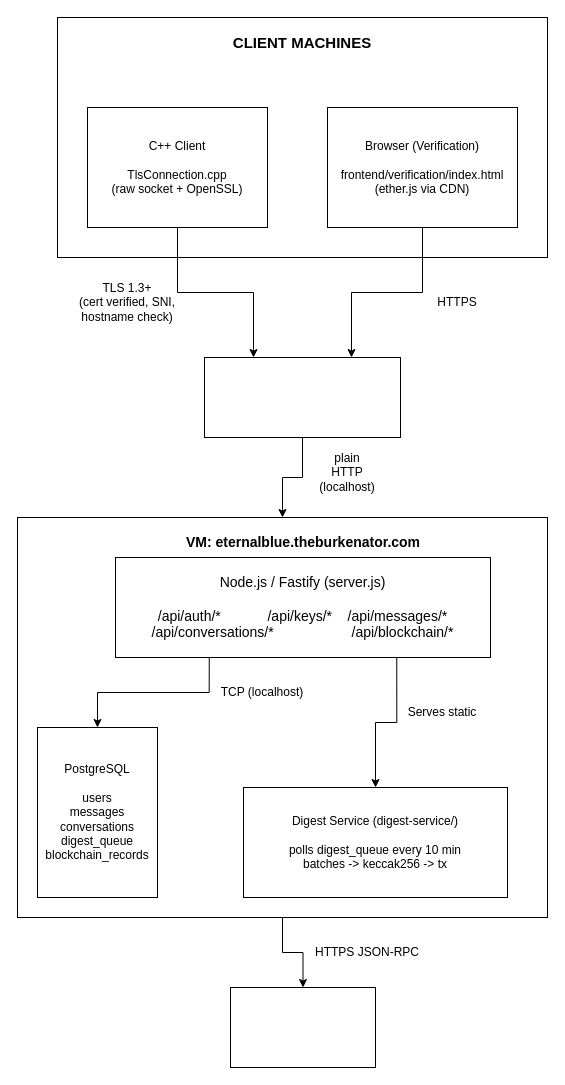
This 565x1085 diagram has some shape labels left out. The centre of each missing label's shape, as x and y in pixels:
Ethernium Sepolia Testnet MessageDigest.sol: (x=303, y=1027)
nginx (TLS termination) TLS cert from Let's Encrypt / CA: (x=302, y=397)
